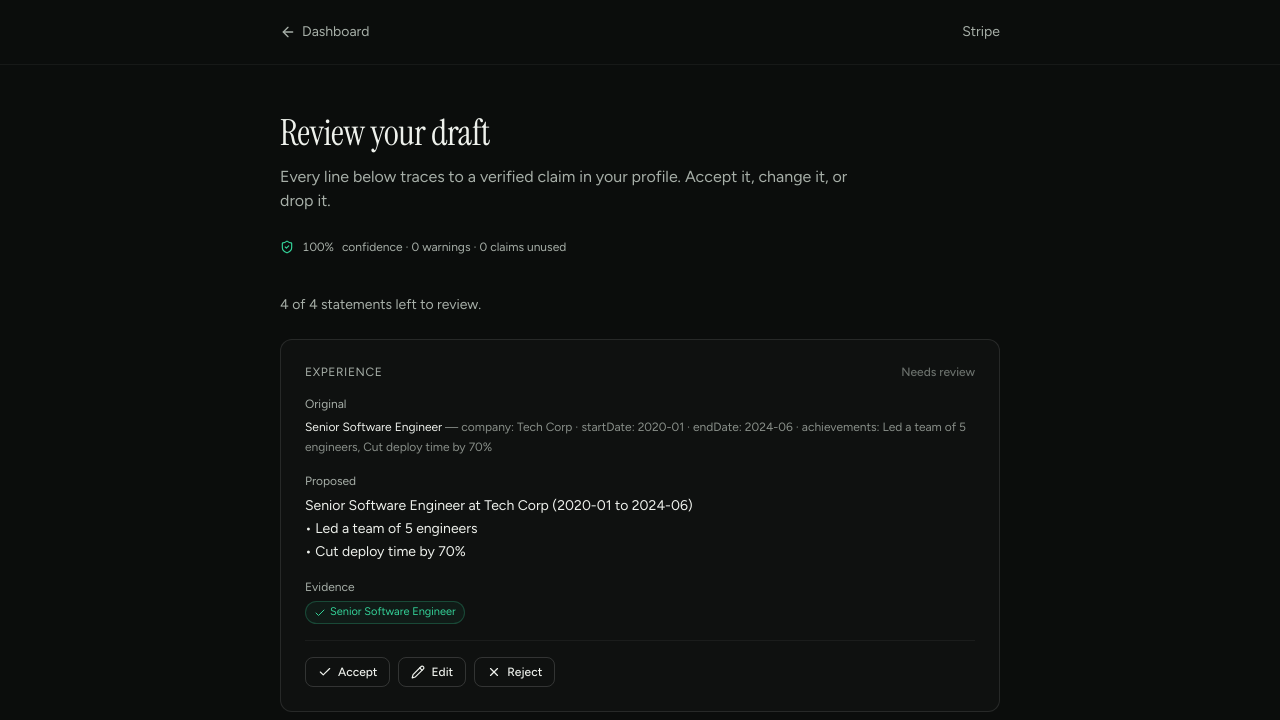
TailorPage › accepts a statement
Click the button with aria-label "Accept experience statement" at point(348, 672), box [305, 657, 390, 687]
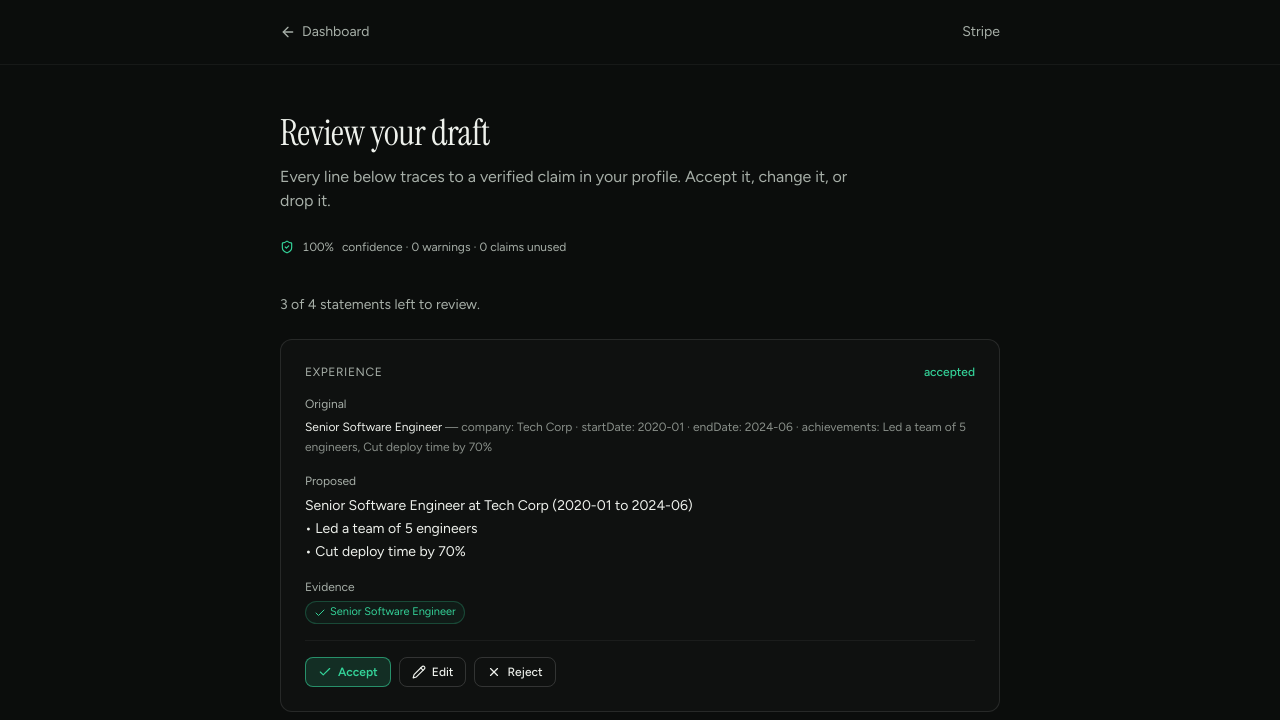
Result: the text "accepted" is shown at [924, 364, 975, 380]
